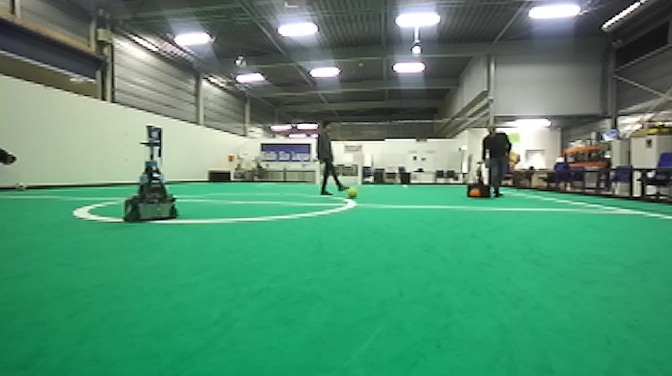ball: (10, 179, 32, 194), (343, 186, 361, 204), (467, 188, 480, 200)
goalpost: (357, 161, 364, 188)
human: (314, 119, 352, 197), (477, 122, 515, 198)
robot: (120, 138, 180, 225), (465, 160, 491, 201)
